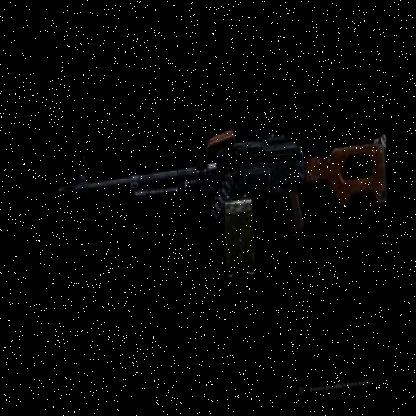rifle: (54, 92, 390, 309)
